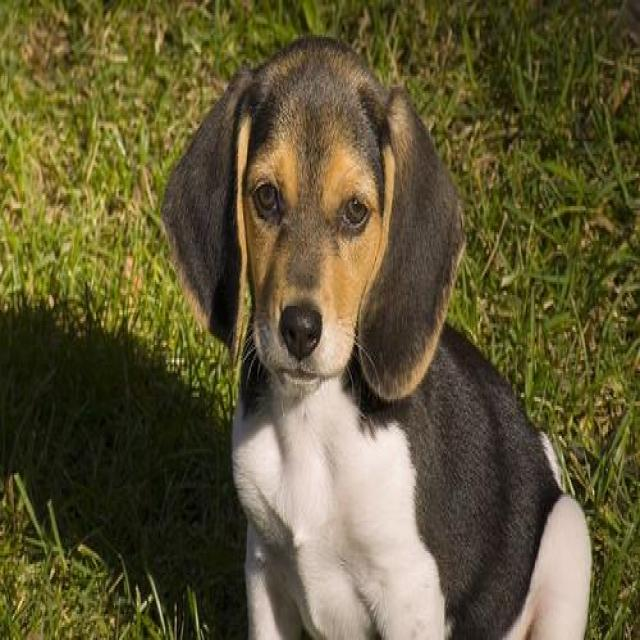beagle: (156, 28, 595, 638)
